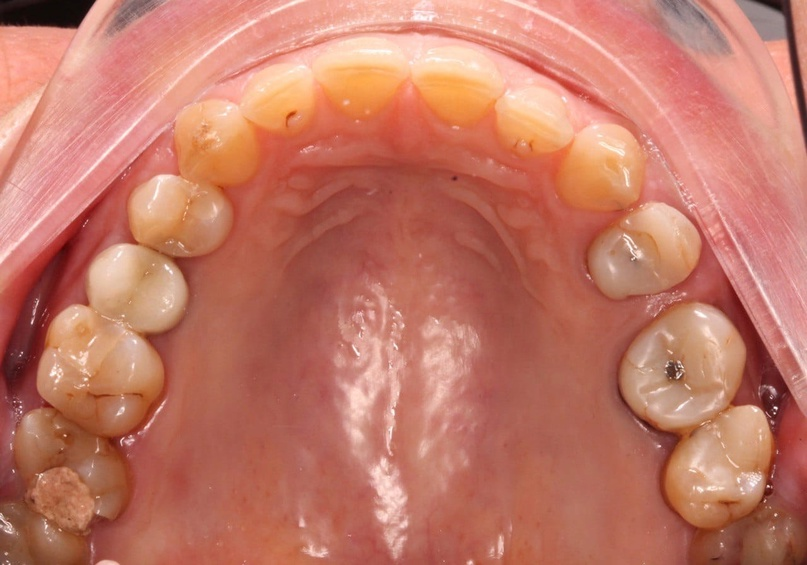UL1BC_decay: (590, 203, 699, 295)
UL1M_decay: (670, 410, 765, 519)
UL2BC_decay: (620, 306, 741, 426)
UL2M_decay: (697, 513, 801, 562)
ULCI_healthy: (412, 45, 502, 120)
ULC_healthy: (560, 123, 640, 204)
ULLI_decay: (499, 89, 573, 154)
UR1BC_healthy: (128, 179, 232, 255)
UR1M_decay: (37, 307, 163, 432)
UR2BC_healthy: (90, 247, 185, 328)
UR2M_decay: (16, 413, 126, 558)
URCI_healthy: (315, 41, 409, 109)
URC_decay: (176, 105, 256, 183)
URLI_decay: (240, 61, 314, 132)
